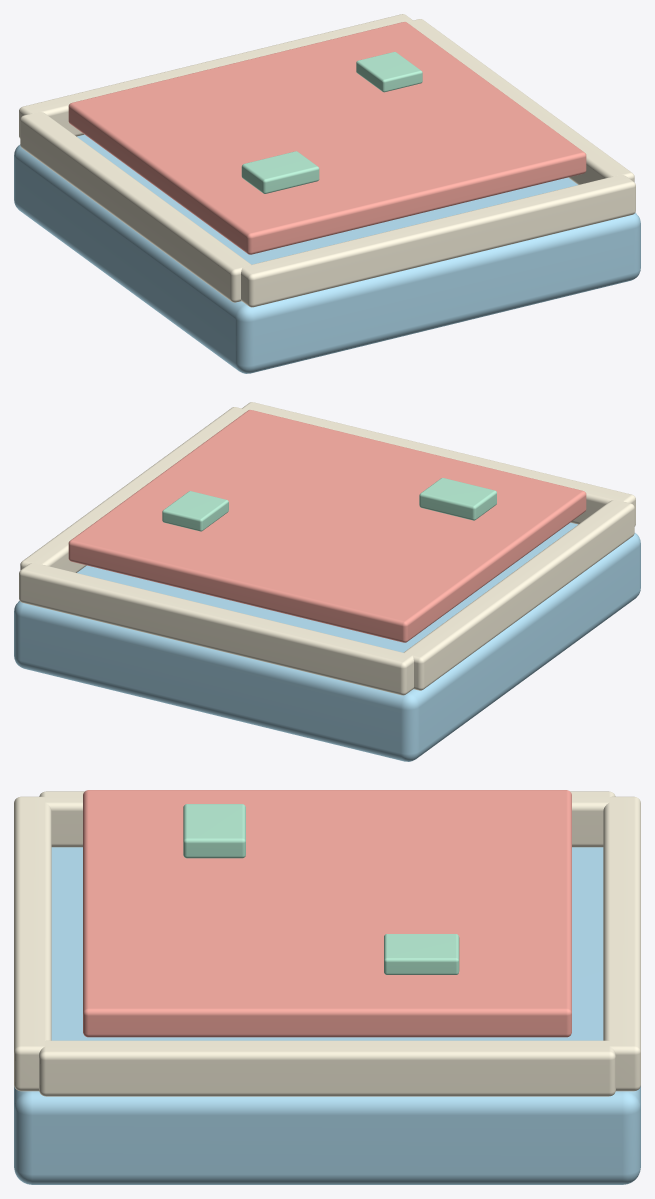
Rendered from platform_candy_small.glb.
3 views of the same model, one above another, from view 1: azimuth 30°, elevation 25°; view 2: azimuth 150°, elevation 25°; view 3: azimuth 270°, elevation 25° (orthographic). The views are drawn at different scales.
Visible parts, largest first — view 1: CoralCakeTop, CloudCakeBase, CreamRimBack, CreamRimLeft, CreamRimFront, CreamRimRight, MintCandyChip, MintCandyChip2; view 2: CoralCakeTop, CloudCakeBase, CreamRimFront, CreamRimLeft, CreamRimBack, CreamRimRight, MintCandyChip, MintCandyChip2; view 3: CoralCakeTop, CloudCakeBase, CreamRimRight, CreamRimFront, CreamRimBack, CreamRimLeft, MintCandyChip, MintCandyChip2.
Part boxes in pixels (bbox=[...]): CoralCakeTop: bbox=[68, 22, 586, 254]; CloudCakeBase: bbox=[14, 134, 640, 373]; CreamRimBack: bbox=[241, 175, 635, 307]; CreamRimLeft: bbox=[20, 112, 251, 302]; CreamRimFront: bbox=[19, 14, 412, 138]; CreamRimRight: bbox=[407, 19, 634, 184]; MintCandyChip: bbox=[241, 151, 319, 193]; MintCandyChip2: bbox=[356, 52, 422, 92]; CoralCakeTop: bbox=[68, 410, 586, 642]; CloudCakeBase: bbox=[14, 522, 640, 761]; CreamRimFront: bbox=[19, 563, 413, 695]; CreamRimLeft: bbox=[403, 500, 634, 690]; CreamRimBack: bbox=[242, 402, 635, 526]; CreamRimRight: bbox=[20, 407, 247, 572]; MintCandyChip: bbox=[419, 478, 496, 520]; MintCandyChip2: bbox=[162, 491, 228, 531]; CoralCakeTop: bbox=[83, 790, 571, 1037]; CloudCakeBase: bbox=[14, 847, 640, 1184]; CreamRimRight: bbox=[39, 1040, 615, 1096]; CreamRimFront: bbox=[603, 796, 640, 1091]; CreamRimBack: bbox=[14, 796, 51, 1091]; CreamRimLeft: bbox=[39, 791, 615, 847]; MintCandyChip: bbox=[183, 804, 245, 858]; MintCandyChip2: bbox=[384, 934, 459, 974].
Bounding box in the file's own units: 2 × 0.63 × 2.
